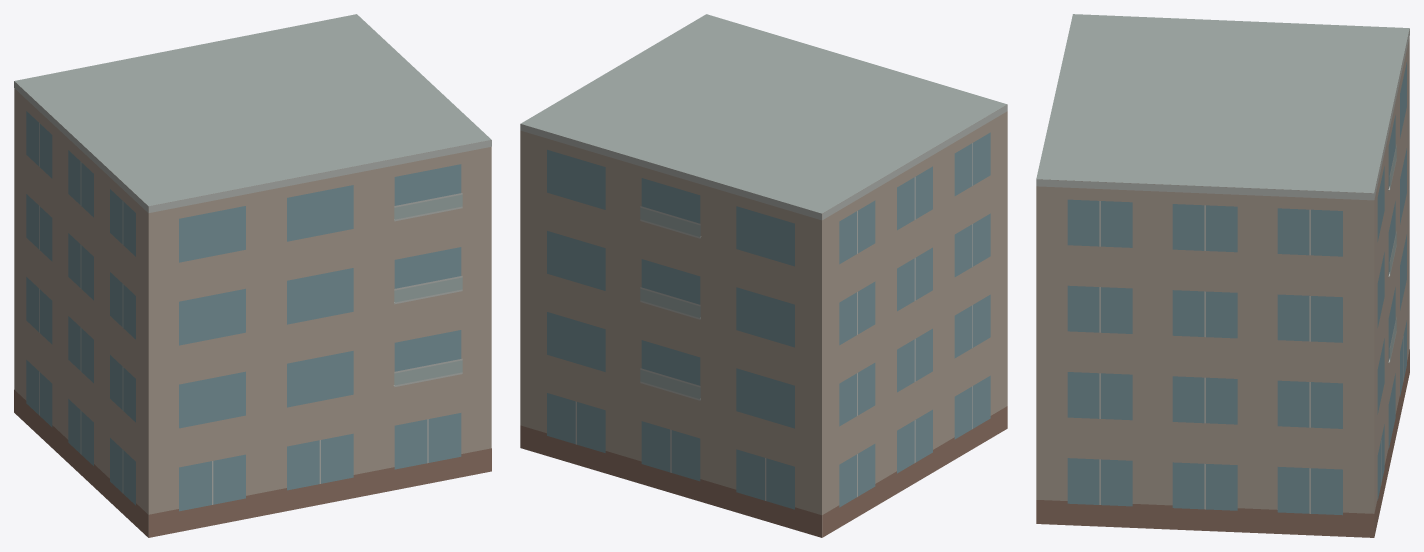
Rendered from survey-upis-32548063.glb.
The picture shows the model from 3 angles, left to right: view 1: azimuth 30°, elevation 25°; view 2: azimuth 150°, elevation 25°; view 3: azimuth 270°, elevation 25°; orthographic projection. The views are drawn at different scales.
Visible parts, largest first — view 1: survey-upis-32548063.tmp; view 2: survey-upis-32548063.tmp; view 3: survey-upis-32548063.tmp.
Part boxes in pixels (x1,y1,x2,y2): survey-upis-32548063.tmp: [14, 14, 491, 537]; survey-upis-32548063.tmp: [520, 14, 1007, 537]; survey-upis-32548063.tmp: [1036, 14, 1409, 537].
Bounding box in the file's own units: 13 × 11.65 × 11.45.
